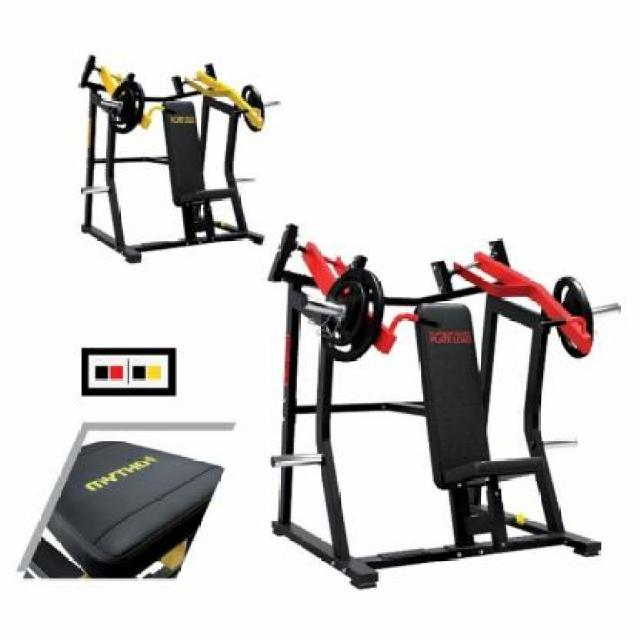shoulder press machine: (262, 223, 620, 599), (42, 42, 278, 270)
